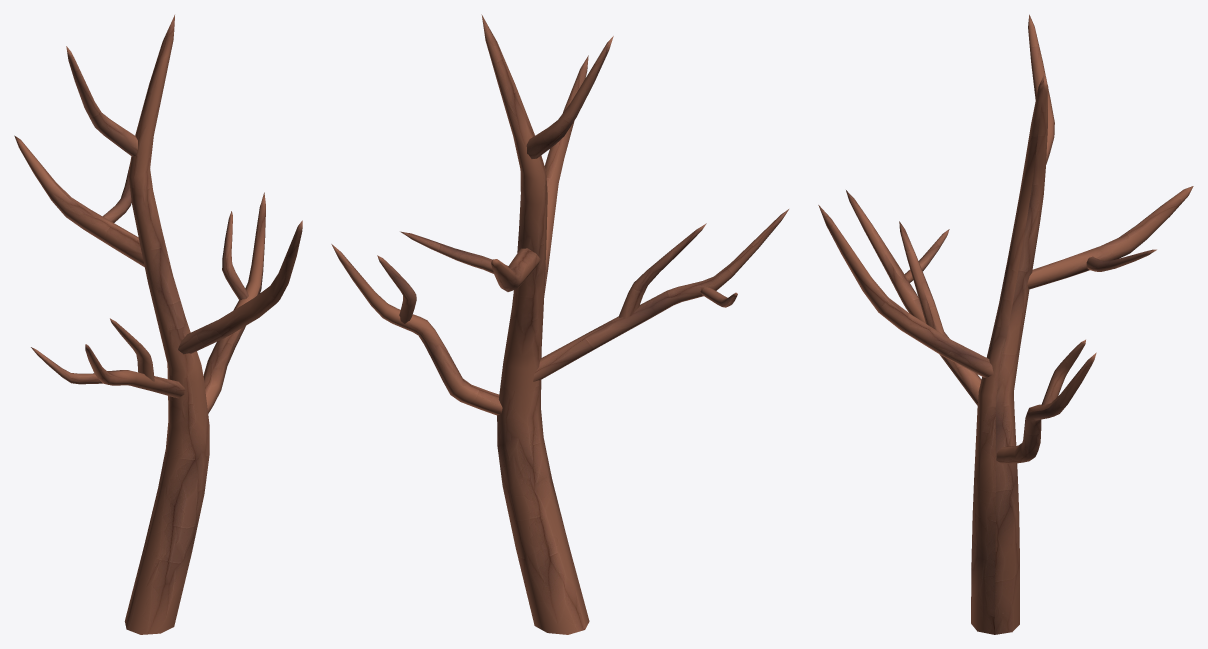
Rendered from DeadTree_5.glb.
The picture shows the model from 3 angles, left to right: view 1: azimuth 30°, elevation 25°; view 2: azimuth 150°, elevation 25°; view 3: azimuth 270°, elevation 25°; orthographic projection. The views are drawn at different scales.
Parts seen in each view (by area): view 1: DeadTree_5; view 2: DeadTree_5; view 3: DeadTree_5.
Part boxes in pixels (box(x1,y1,x2,y2)): DeadTree_5: box(14, 15, 302, 634); DeadTree_5: box(331, 14, 788, 634); DeadTree_5: box(818, 14, 1193, 634).
Bounding box in the file's own units: 1.44 × 2.6 × 1.53.
Materials: 1 (1 with a texture image).
